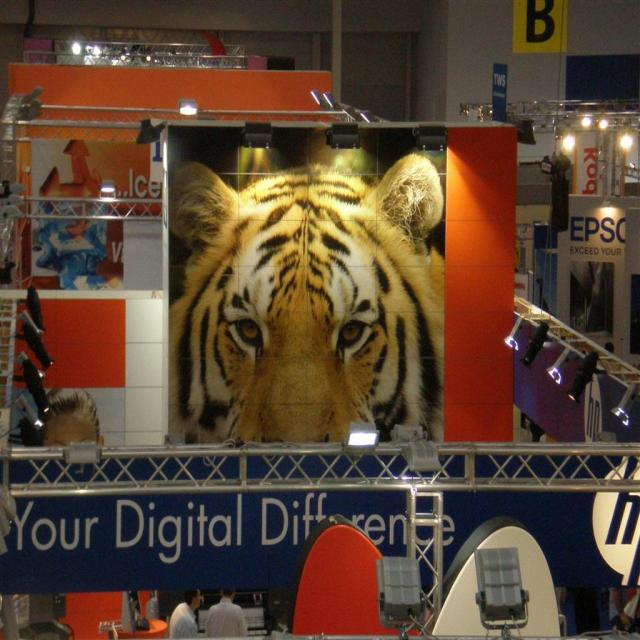Tiger: (166, 153, 447, 444)
